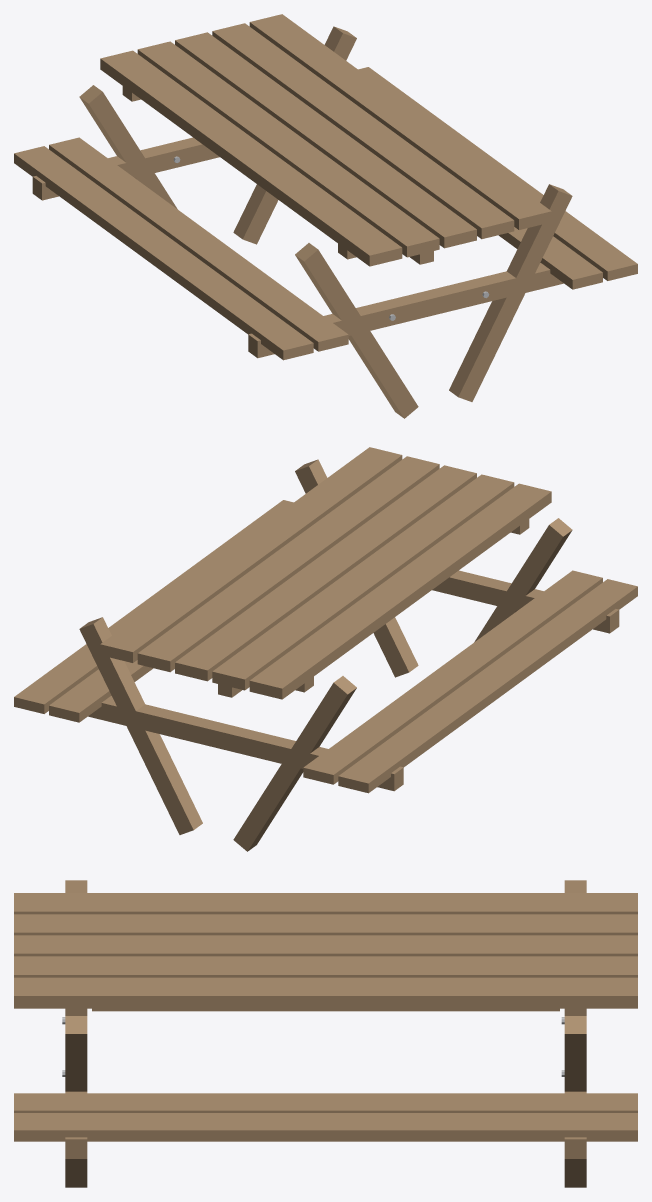
The model's file is SM_Prop_PicnicTable.fbx.
The picture shows the model from 3 angles, top to bottom: view 1: azimuth 30°, elevation 25°; view 2: azimuth 150°, elevation 25°; view 3: azimuth 270°, elevation 25°; orthographic projection. The views are drawn at different scales.
Visible parts, largest first — view 1: SM_Prop_PicnicTable; view 2: SM_Prop_PicnicTable; view 3: SM_Prop_PicnicTable.
Part boxes in pixels (x1,y1,x2,y2): SM_Prop_PicnicTable: [14, 14, 637, 418]; SM_Prop_PicnicTable: [14, 447, 637, 851]; SM_Prop_PicnicTable: [14, 880, 637, 1187].
Size of the model in its own units: 2 by 1.55 by 0.7924.
